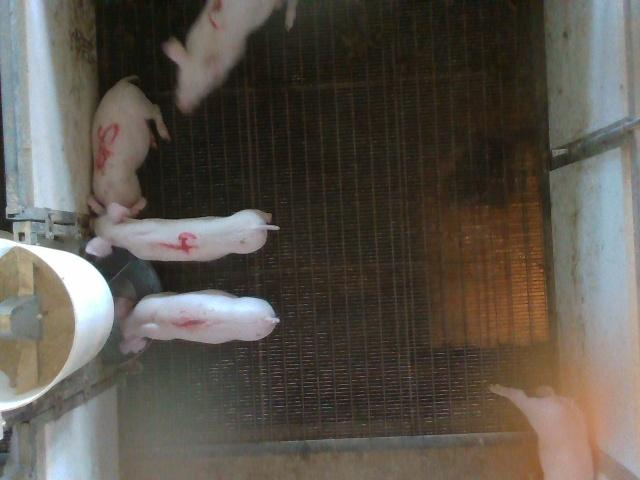pig-1: (115, 290, 279, 354)
pig-4: (86, 202, 279, 261)
pig-5: (92, 76, 170, 214)
